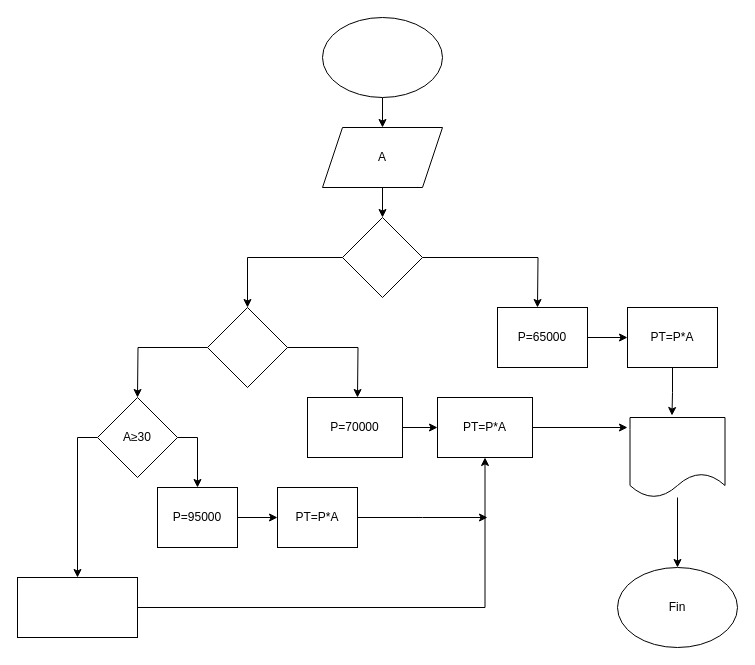
This 755x665 diagram has some shape labels left out. The shapes that lost their labels are listed below. From the top down, each one's centre as x and y in pixels, then its label:
(382,57): Inicio
(382,257): A≥100
(247,347): A≥50
(677,457): PT,P
(77,607): Pt=4000 P=PT/A
